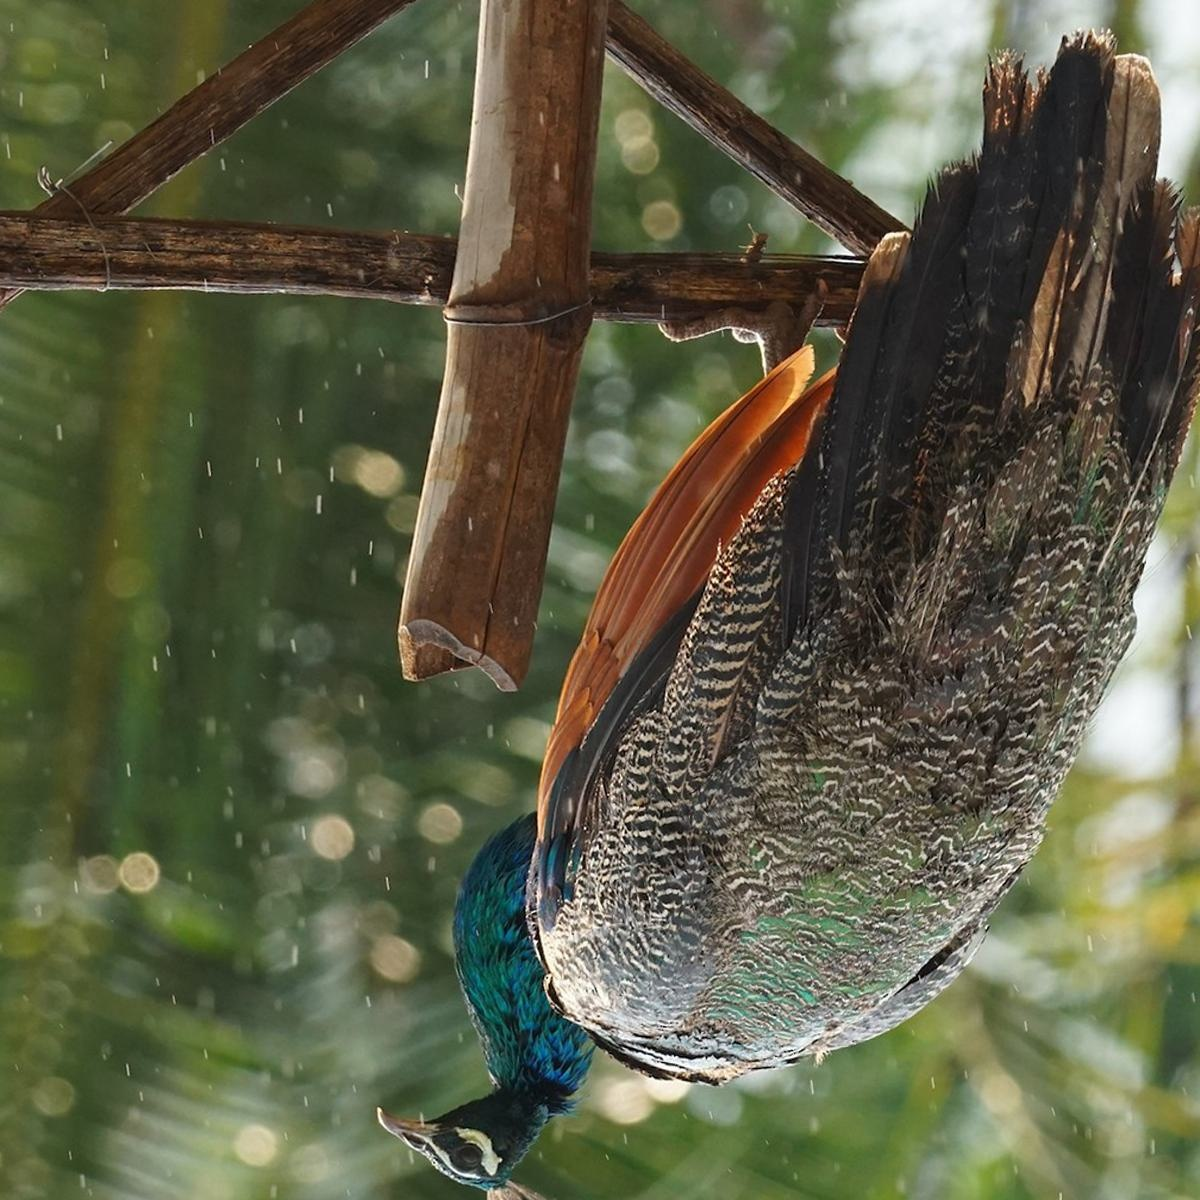peacock: (362, 105, 1181, 1184)
